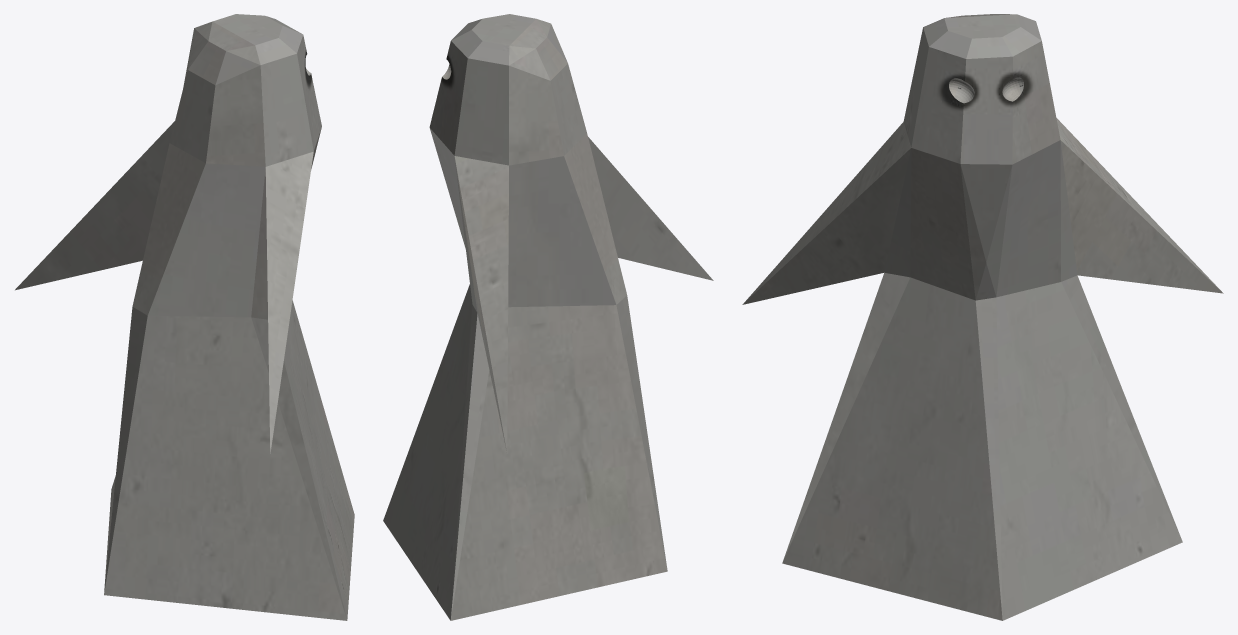
File: ghost.fbx
3 renders of one model, left to right at view 1: azimuth 30°, elevation 25°; view 2: azimuth 150°, elevation 25°; view 3: azimuth 270°, elevation 25°, orthographic. The views are drawn at different scales.
Visible parts, largest first — view 1: Cylinder; view 2: Cylinder; view 3: Cylinder.
Part boxes in pixels (box(x1,y1,x2,y2)): Cylinder: box(15, 14, 354, 620); Cylinder: box(383, 14, 713, 620); Cylinder: box(742, 14, 1223, 620).
Size of the model in its own units: 499 by 921 by 746.
